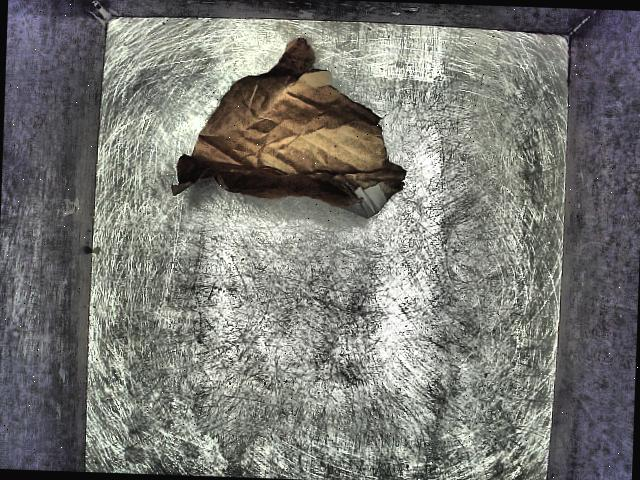Paper: (145, 26, 425, 274)
